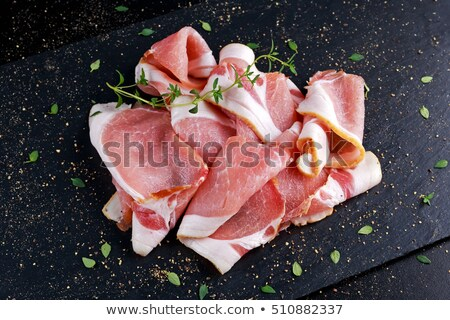bacon: (77, 24, 373, 253)
